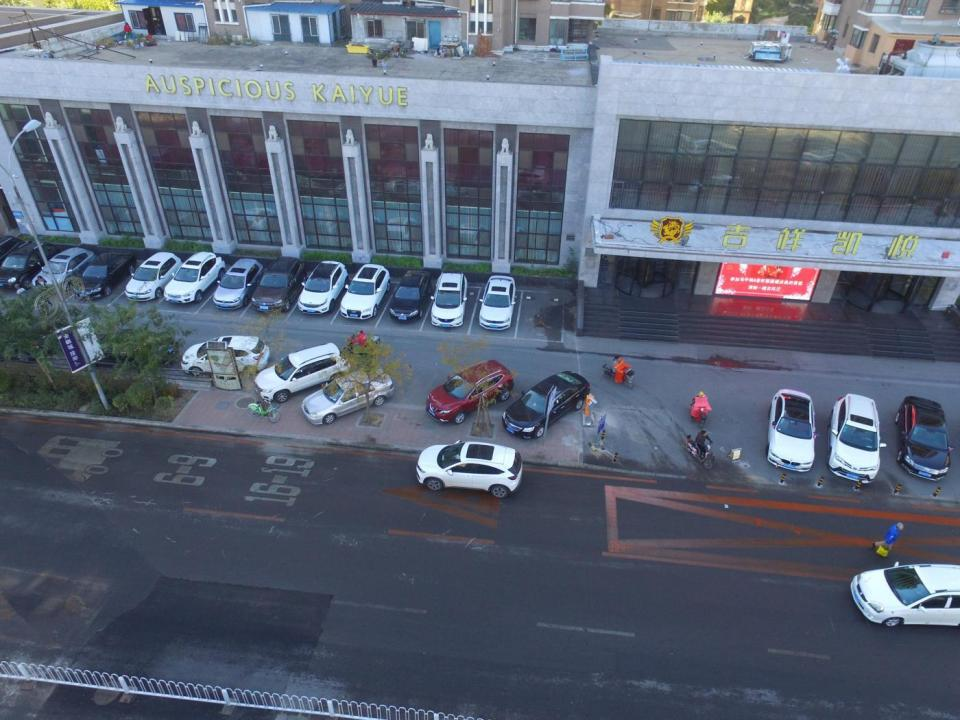car: (849, 562, 959, 628), (413, 440, 524, 501), (503, 370, 589, 442), (256, 344, 350, 405), (427, 359, 514, 422), (301, 370, 396, 427), (827, 393, 882, 487), (896, 395, 955, 480), (767, 388, 817, 472), (182, 333, 270, 379), (85, 329, 178, 370), (163, 251, 227, 303), (30, 247, 95, 297), (74, 250, 138, 299), (342, 264, 398, 320), (1, 239, 60, 292), (124, 252, 185, 303), (252, 256, 308, 311), (297, 260, 353, 313), (0, 314, 57, 363), (475, 274, 520, 334), (215, 257, 263, 310), (390, 267, 432, 326), (430, 270, 470, 331)
